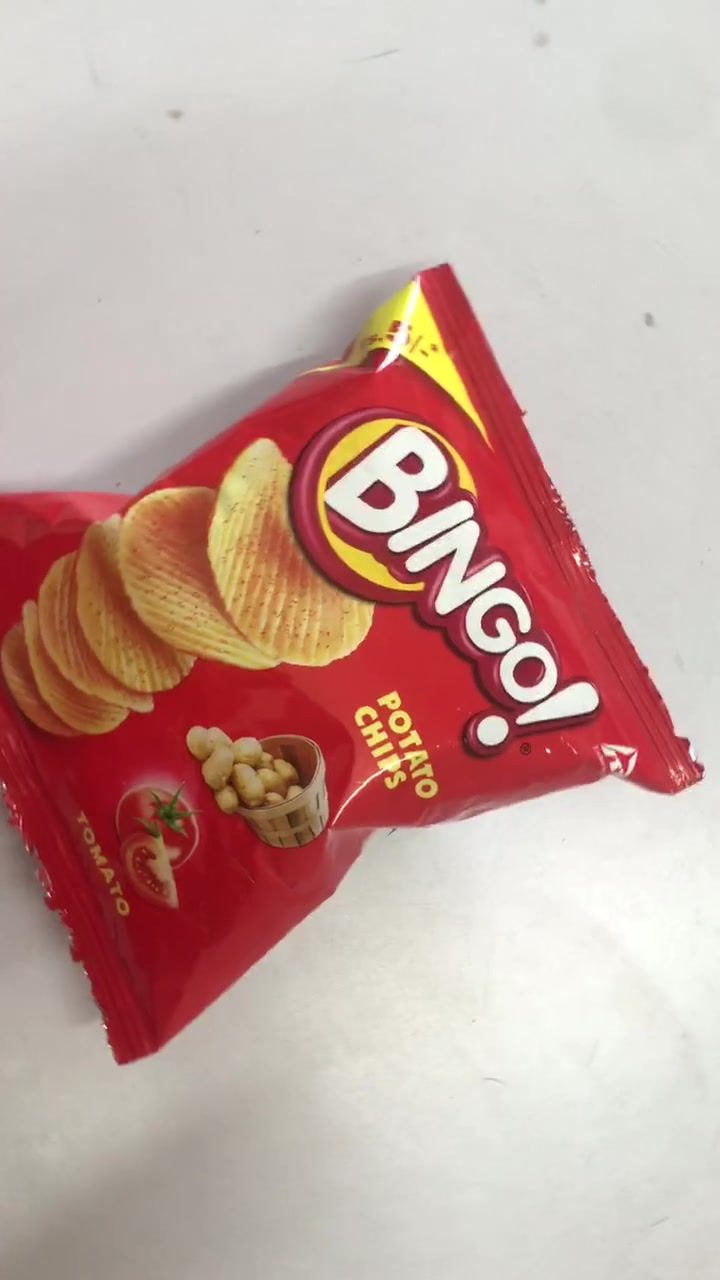Bingo: (5, 263, 692, 1059)
